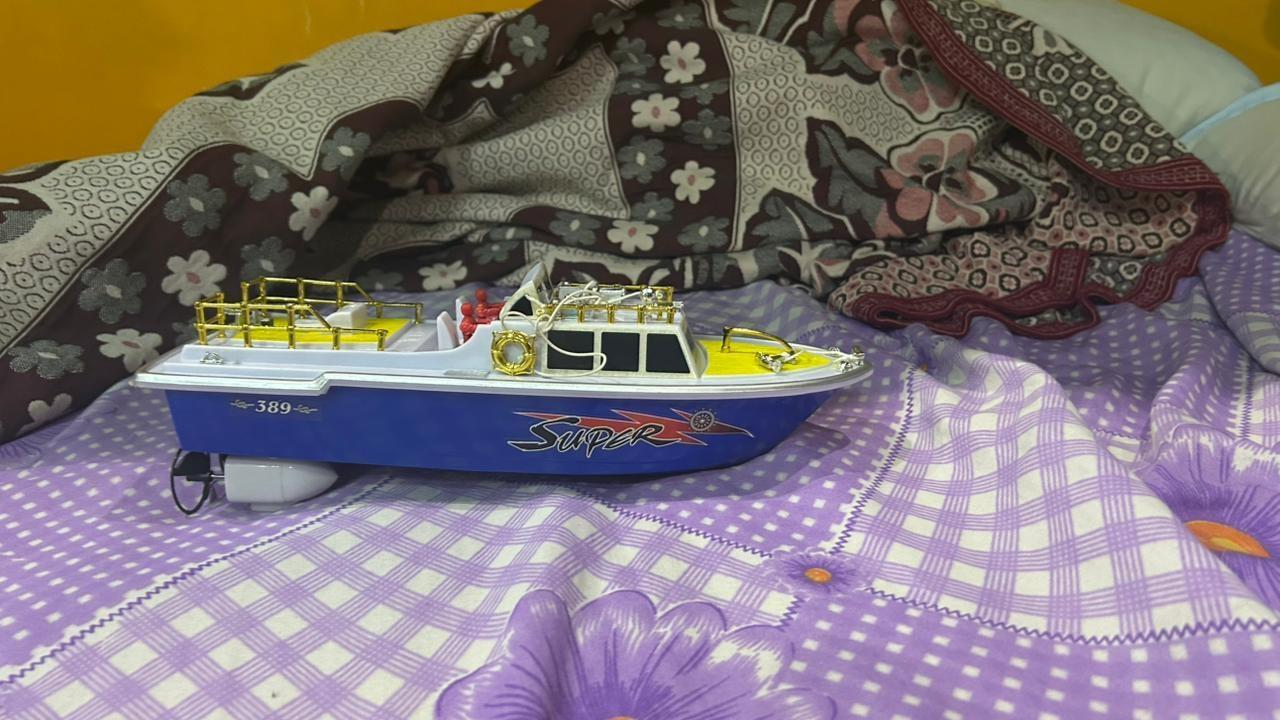Boat: (128, 260, 876, 522)
